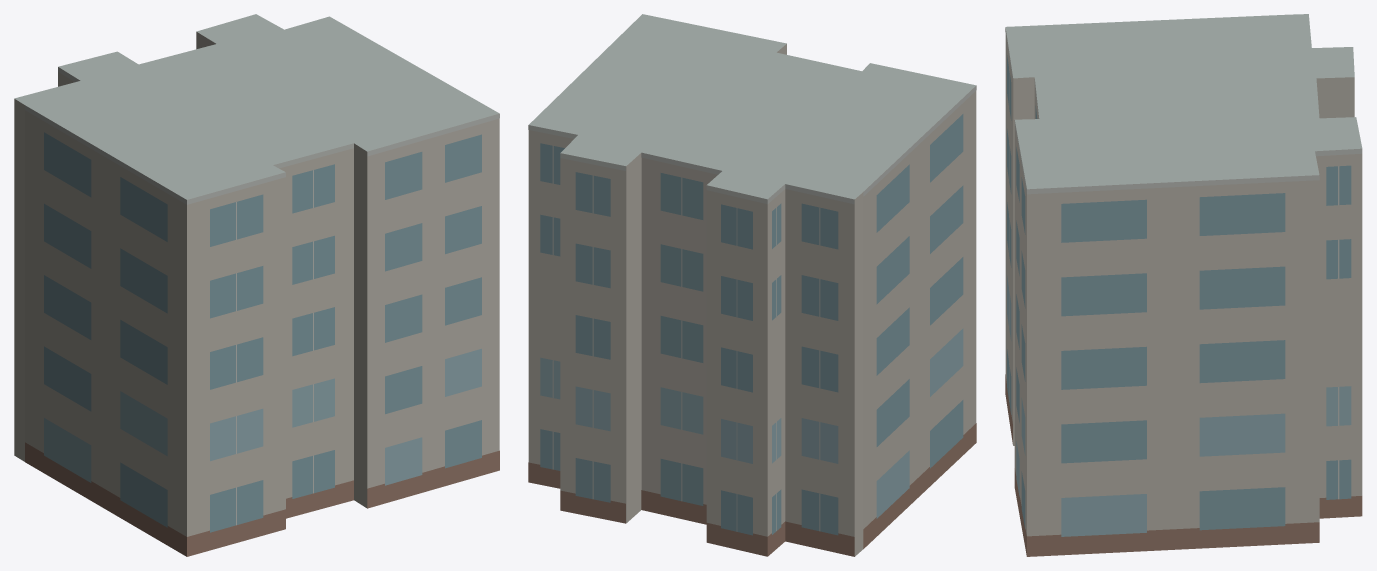
The model's file is survey-upis-33031813.glb.
3 views of the same model, side by side, from view 1: azimuth 30°, elevation 25°; view 2: azimuth 150°, elevation 25°; view 3: azimuth 270°, elevation 25° (orthographic). The views are drawn at different scales.
Visible parts, largest first — view 1: survey-upis-33031813.tmp; view 2: survey-upis-33031813.tmp; view 3: survey-upis-33031813.tmp.
Part boxes in pixels (<box>): survey-upis-33031813.tmp: <box>14,14,499,556</box>; survey-upis-33031813.tmp: <box>528,14,976,556</box>; survey-upis-33031813.tmp: <box>1005,14,1362,556</box>.
Size of the model in its own units: 18.09 by 17.68 by 15.57.
